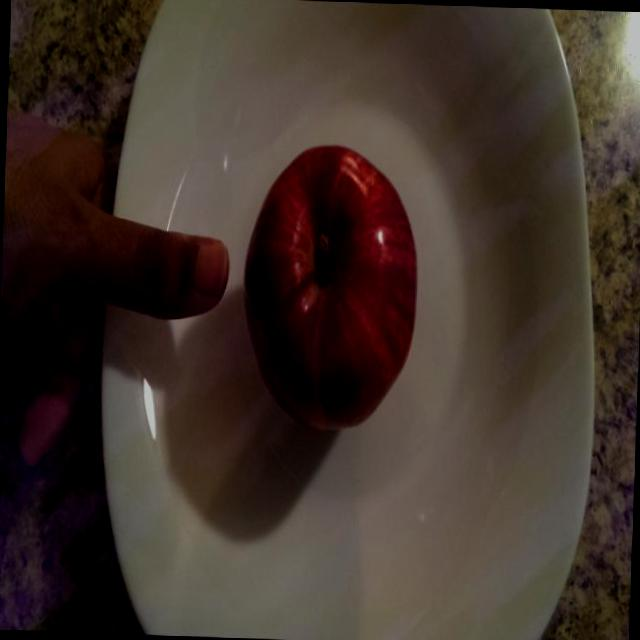Apple: (237, 139, 427, 439)
Finger: (128, 215, 238, 324)
